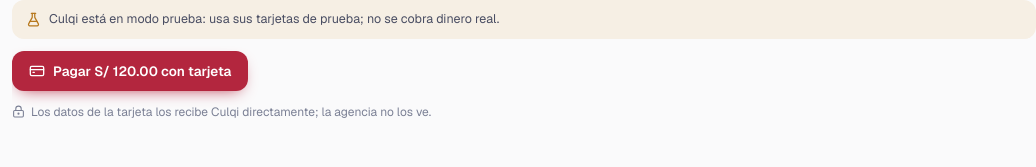
formulario de pago con la pasarela de la agencia › si la pasarela no abre la sesión lo explica y no muestra campos de tarjeta
The width and height of the screenshot is (1036, 167).
Click the button "Pagar S/ 120.00 con tarjeta" at (130, 71), box [12,51,248,91]
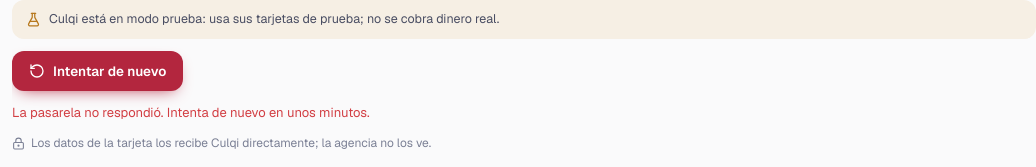
Expected: the text "La pasarela no respondió. Intenta de nuevo en unos minutos." is shown, [12,104,370,121]
